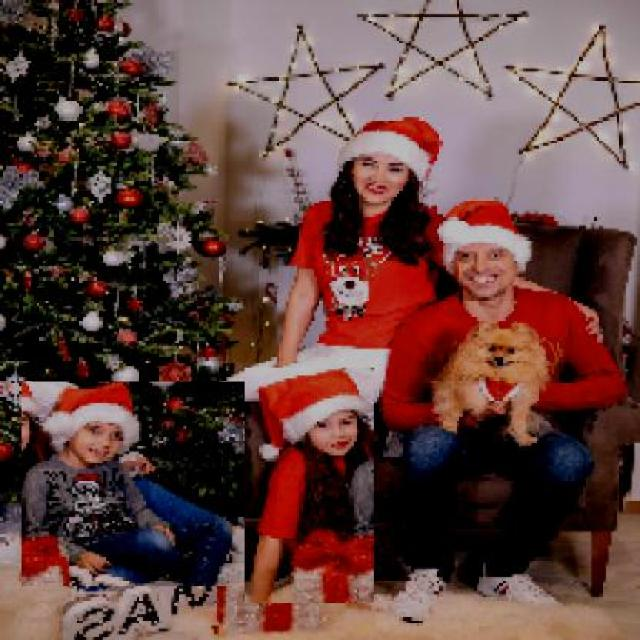child: (20, 382, 269, 588), (243, 368, 374, 606)
